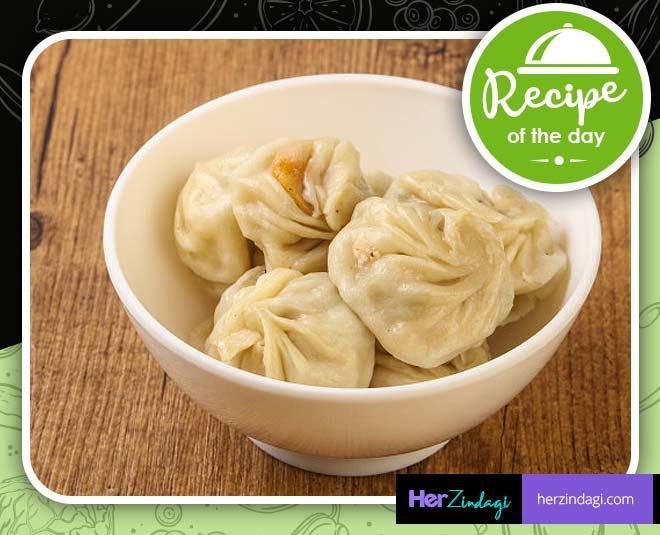momos: (327, 170, 566, 368), (174, 138, 373, 284), (205, 267, 375, 387), (174, 146, 253, 283)
